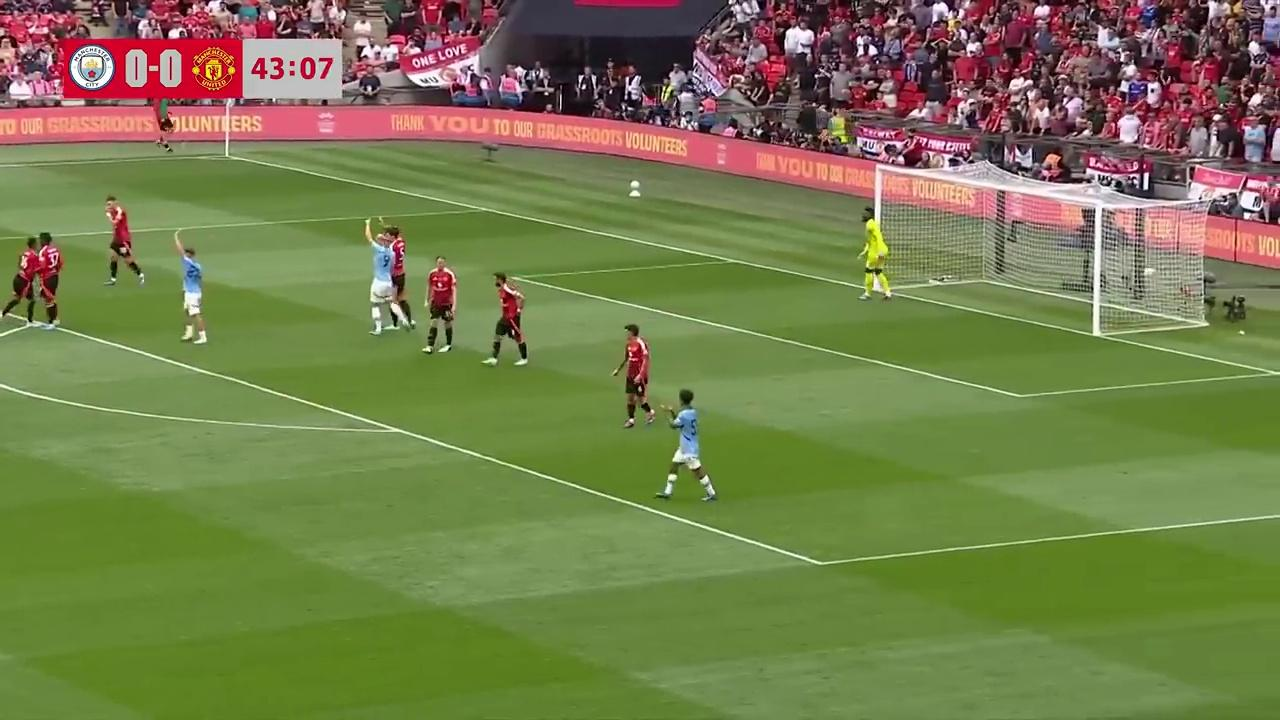player: (656, 390, 716, 500), (611, 323, 654, 428), (486, 272, 529, 367), (173, 233, 208, 345), (104, 196, 145, 287), (366, 221, 398, 334), (422, 255, 457, 354), (382, 223, 414, 331), (0, 237, 36, 330), (31, 232, 64, 329), (857, 210, 891, 301)
